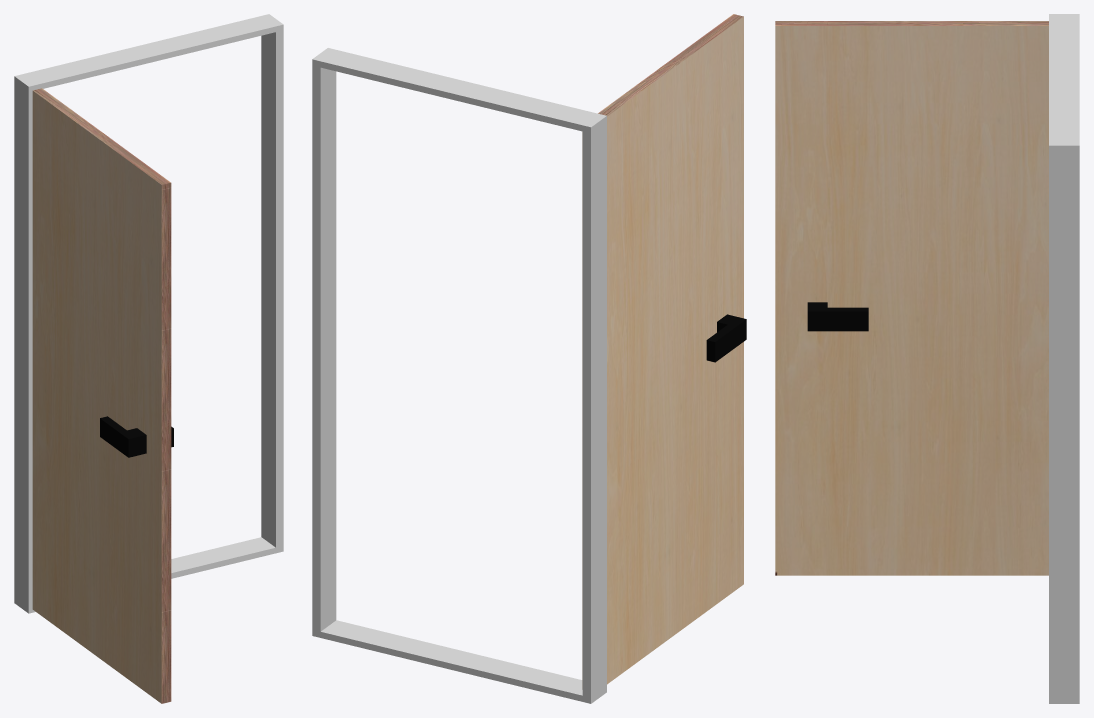
The model's file is door101.fbx.
The picture shows the model from 3 angles, left to right: view 1: azimuth 30°, elevation 25°; view 2: azimuth 150°, elevation 25°; view 3: azimuth 270°, elevation 25°; orthographic projection. The views are drawn at different scales.
Visible parts, largest first — view 1: door, Cube; view 2: door, Cube; view 3: door, Cube.
Part boxes in pixels (x1,y1,x2,y2): door: (32,88,173,703); Cube: (14,14,283,613); door: (582,14,746,689); Cube: (312,48,606,703); door: (775,21,1048,575); Cube: (1049,14,1079,703).
Size of the model in its own units: 677 by 1372 by 733.
